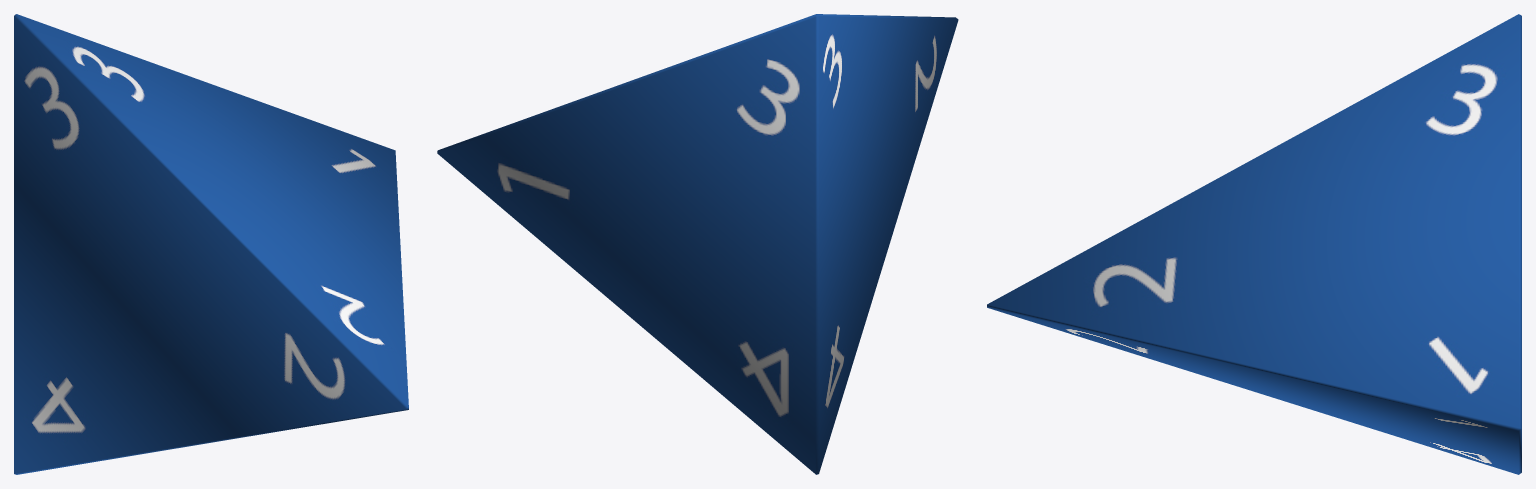
File: dFor.glb
3 views of the same model, side by side, from view 1: azimuth 30°, elevation 25°; view 2: azimuth 150°, elevation 25°; view 3: azimuth 270°, elevation 25° (orthographic).
Parts seen in each view (by area): view 1: d4; view 2: d4; view 3: d4.
Boxes of the visible parts, x1,y1,x2,y2 form: d4: [14, 14, 408, 474]; d4: [437, 14, 958, 474]; d4: [987, 14, 1521, 474].
Bounding box in the file's own units: 6790 × 7841 × 8245.
Materials: 1 (1 with a texture image).
